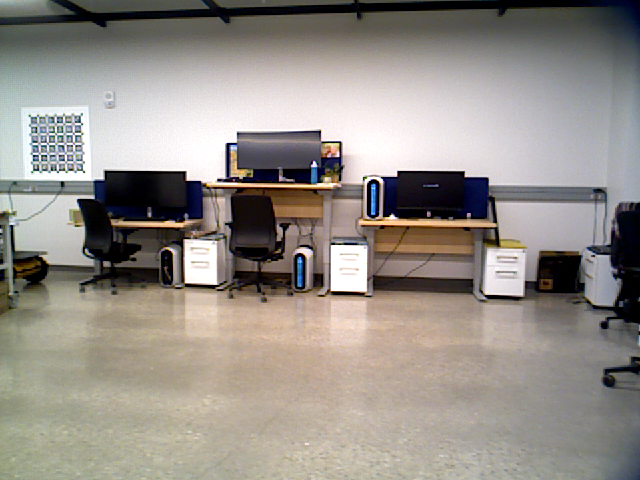painting4: (21, 106, 94, 181)
